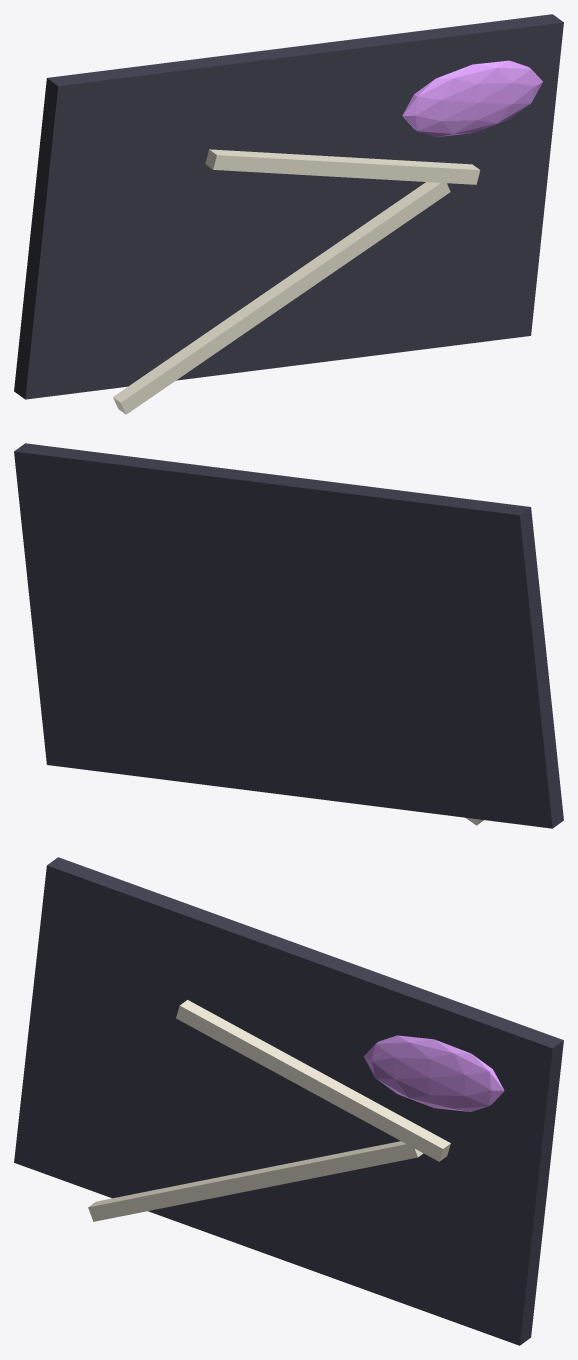
The model's file is 04_weathering_wear_overlay_4.glb.
3 renders of one model, top to bottom at view 1: azimuth 30°, elevation 25°; view 2: azimuth 150°, elevation 25°; view 3: azimuth 330°, elevation 25°, orthographic.
Parts seen in each view (by area): view 1: wear_plate, scratch_a, rust_or_moss_spot, scratch_b; view 2: wear_plate; view 3: wear_plate, rust_or_moss_spot, scratch_b, scratch_a.
Boxes of the visible parts, x1,y1,x2,y2 form: wear_plate: (14,14,563,399); scratch_a: (113,182,450,414); rust_or_moss_spot: (402,60,542,137); scratch_b: (205,149,480,184); wear_plate: (14,443,563,828); wear_plate: (14,857,563,1345); rust_or_moss_spot: (364,1035,504,1111); scratch_b: (176,1000,450,1161); scratch_a: (88,1141,423,1221).
Bounding box in the file's own units: 1.38 × 0.8909 × 0.134.
